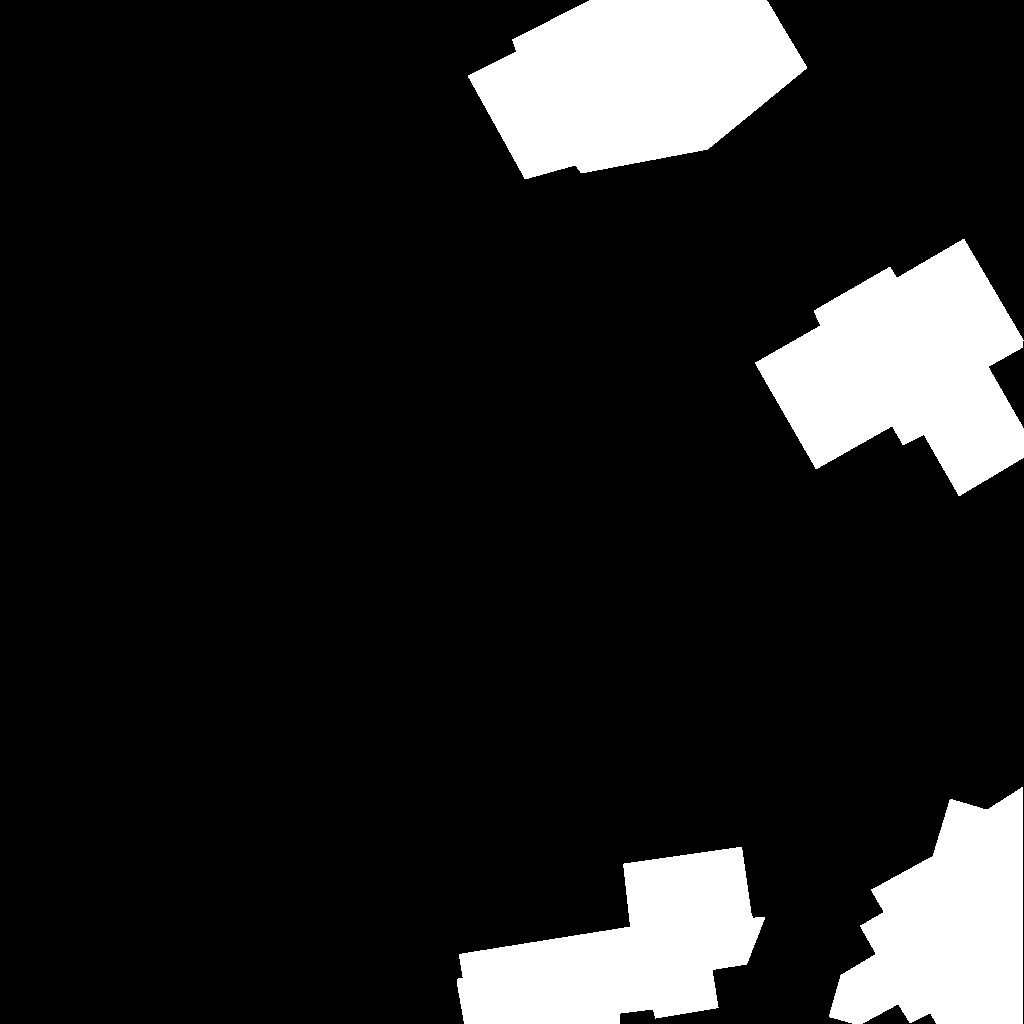building: (755, 239, 1024, 497), (468, 0, 808, 180), (457, 847, 766, 1024), (829, 787, 1024, 1024)
